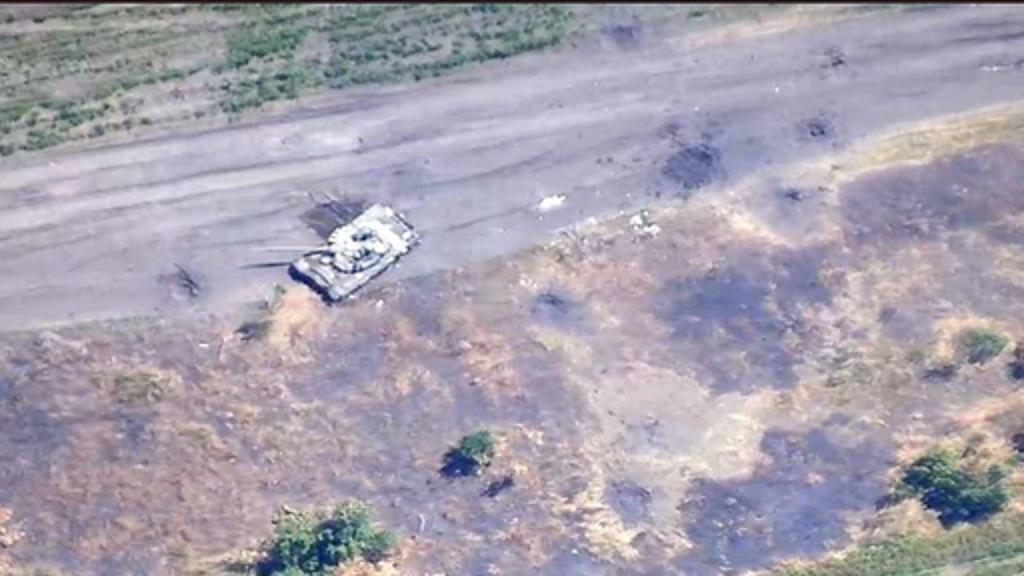TANK: (244, 196, 420, 304)
